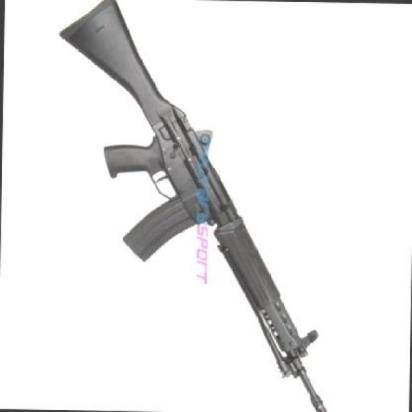Gun: (61, 0, 354, 404)
